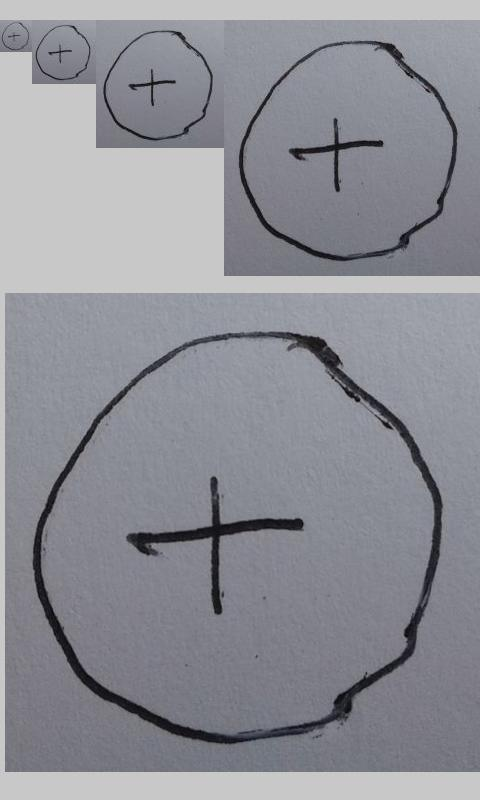button: (33, 328, 442, 748), (238, 39, 459, 262), (103, 30, 213, 141), (35, 24, 91, 81), (1, 22, 30, 51)
